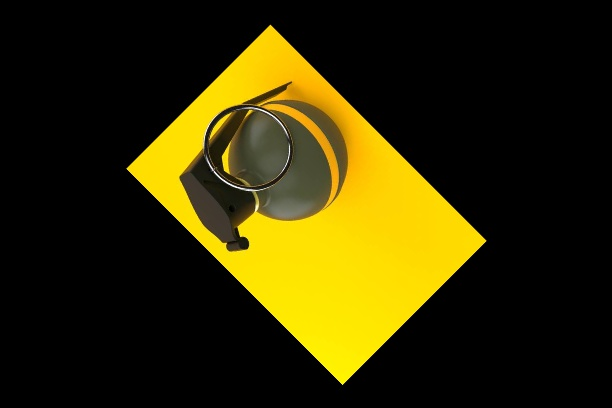e1: (179, 74, 347, 255)
